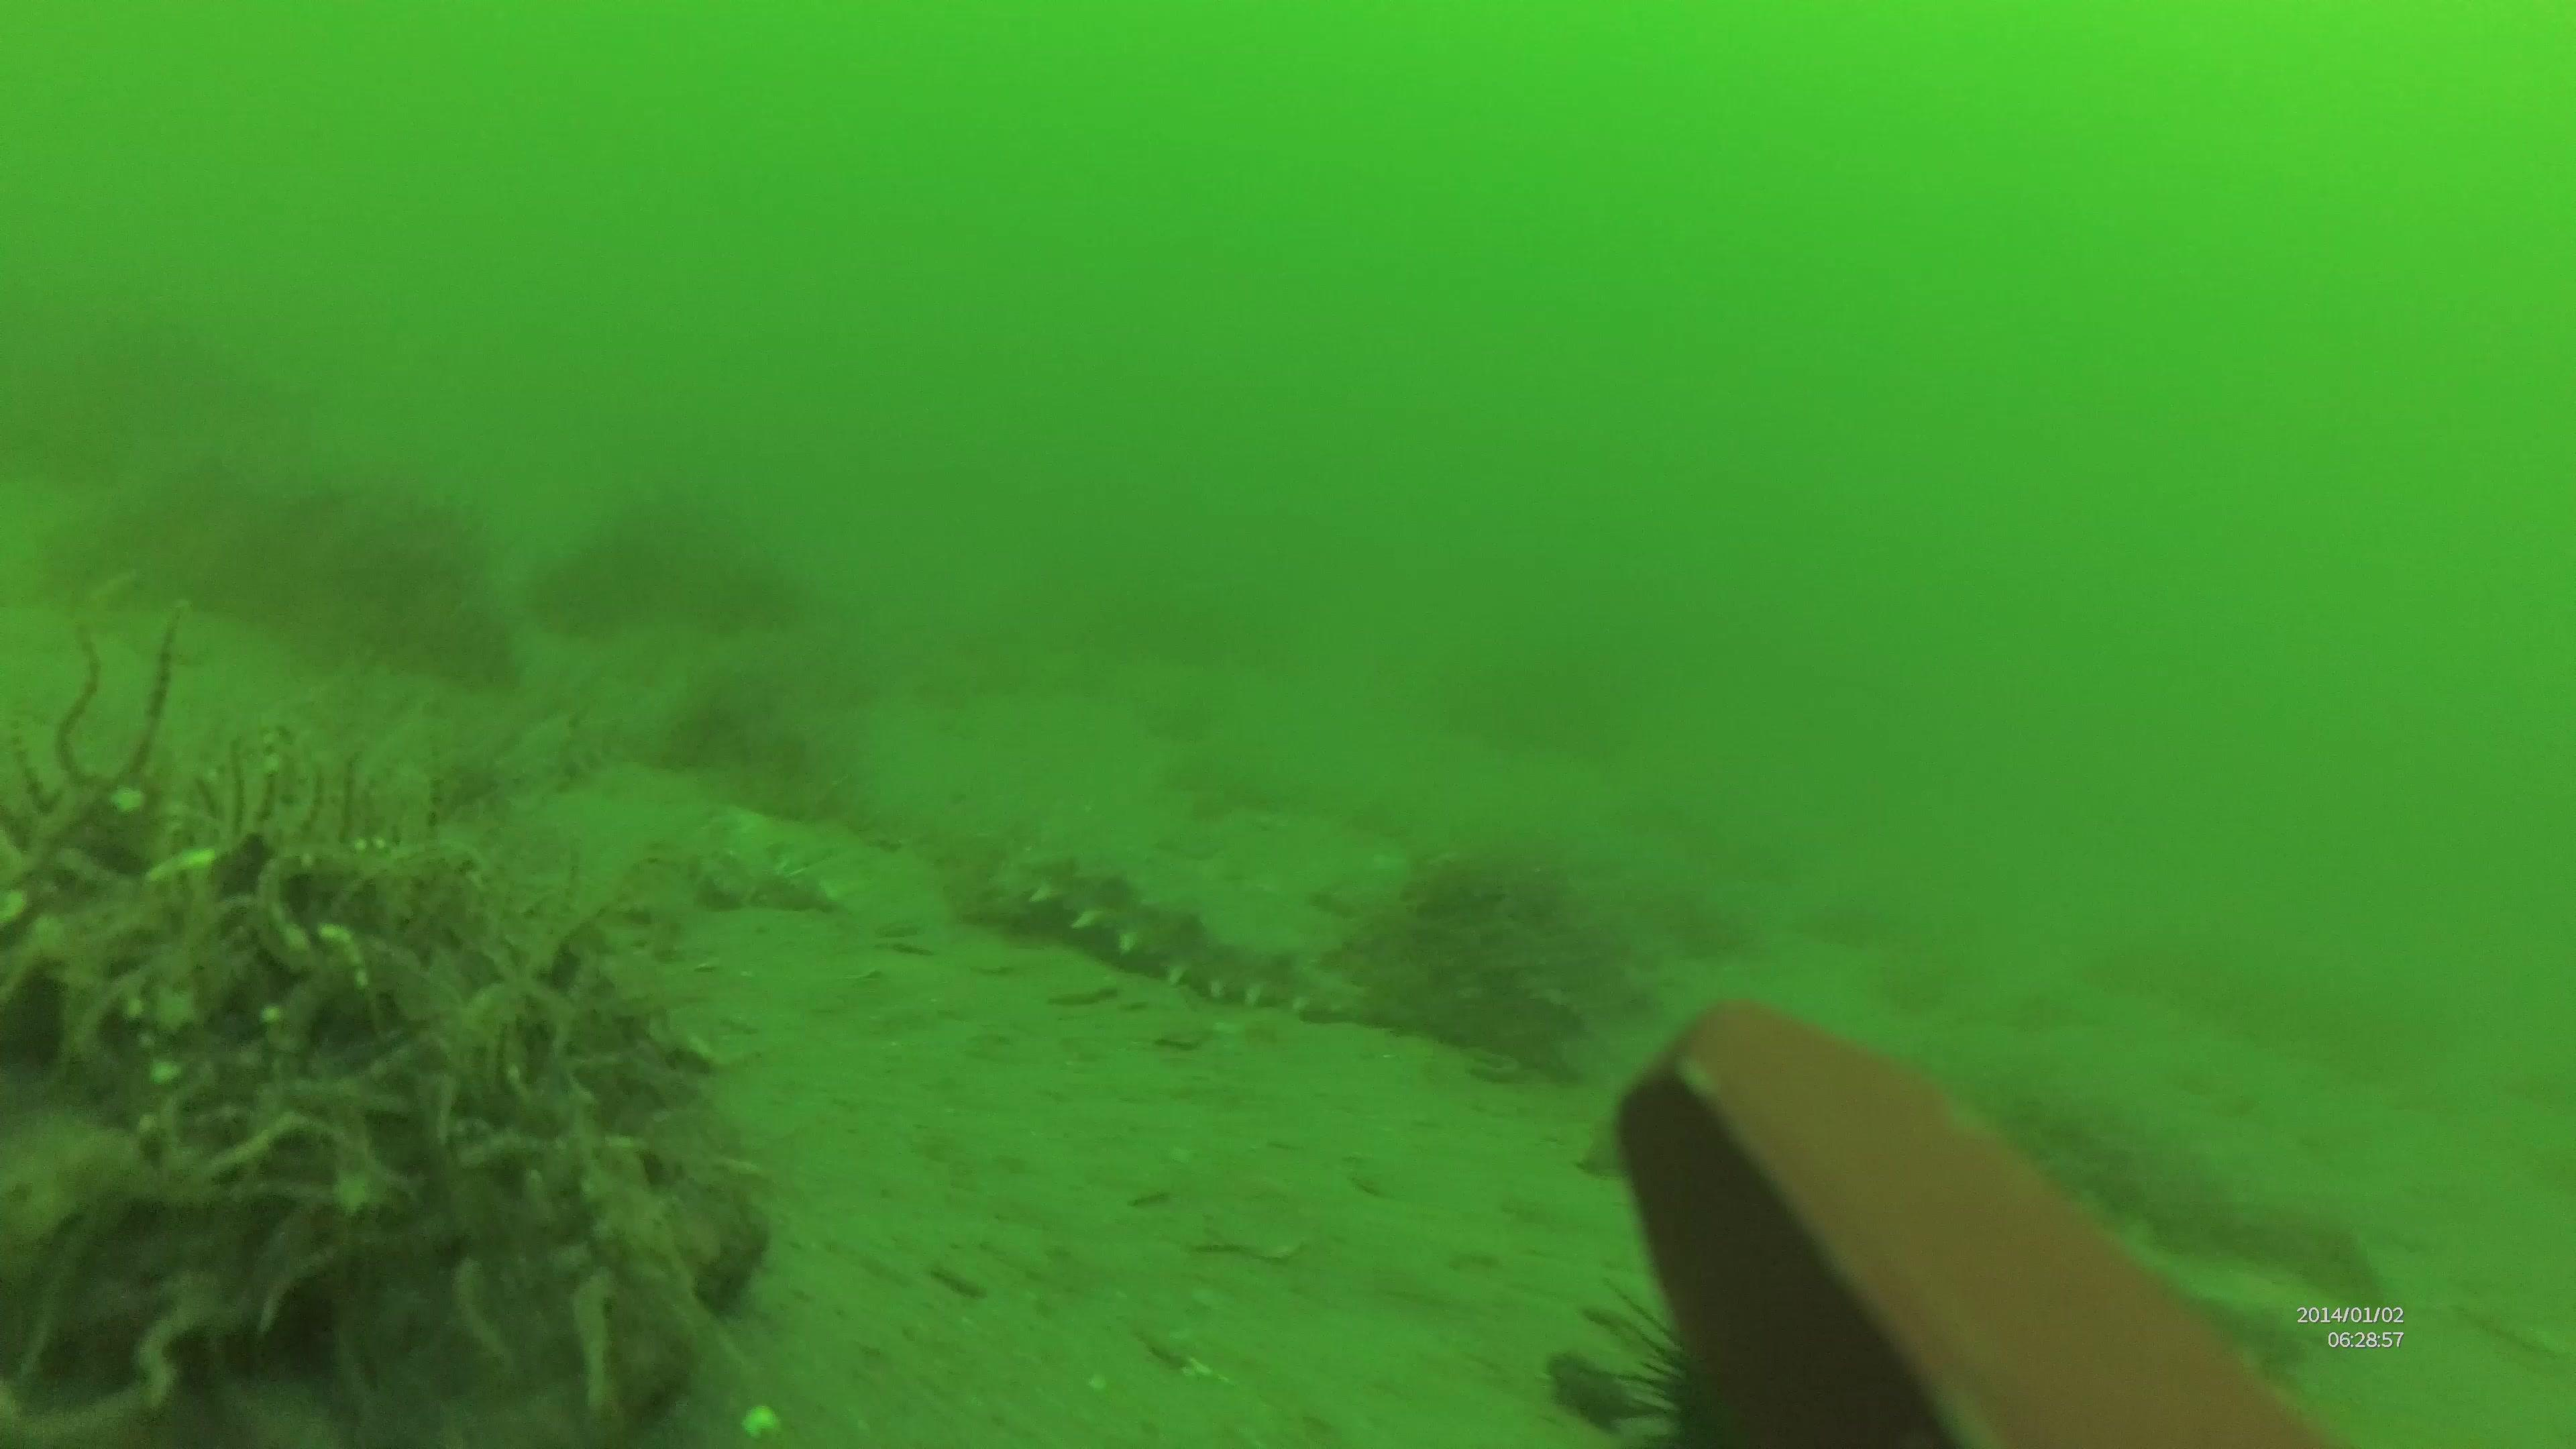echinus: (1580, 1277, 1874, 1449)
holothurian: (975, 828, 1444, 1021)
